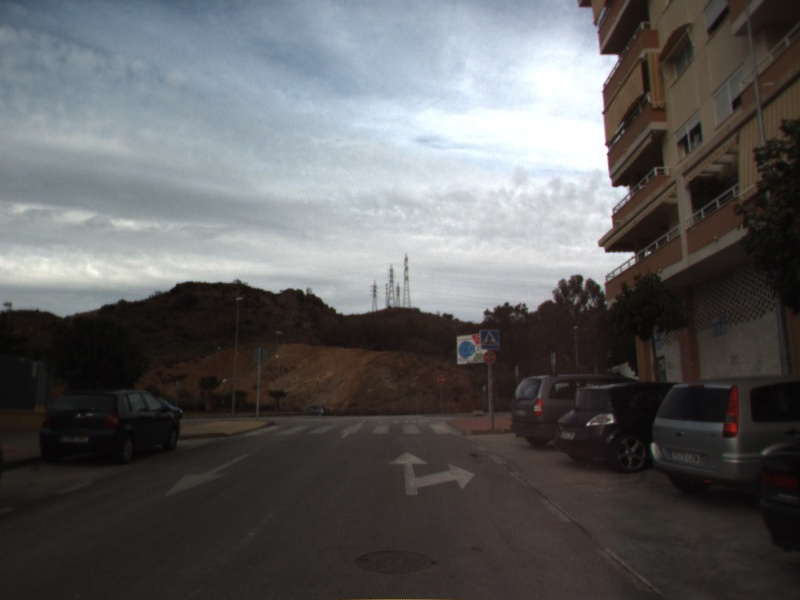STRAIGHT_RIGHT: (386, 449, 477, 498)
